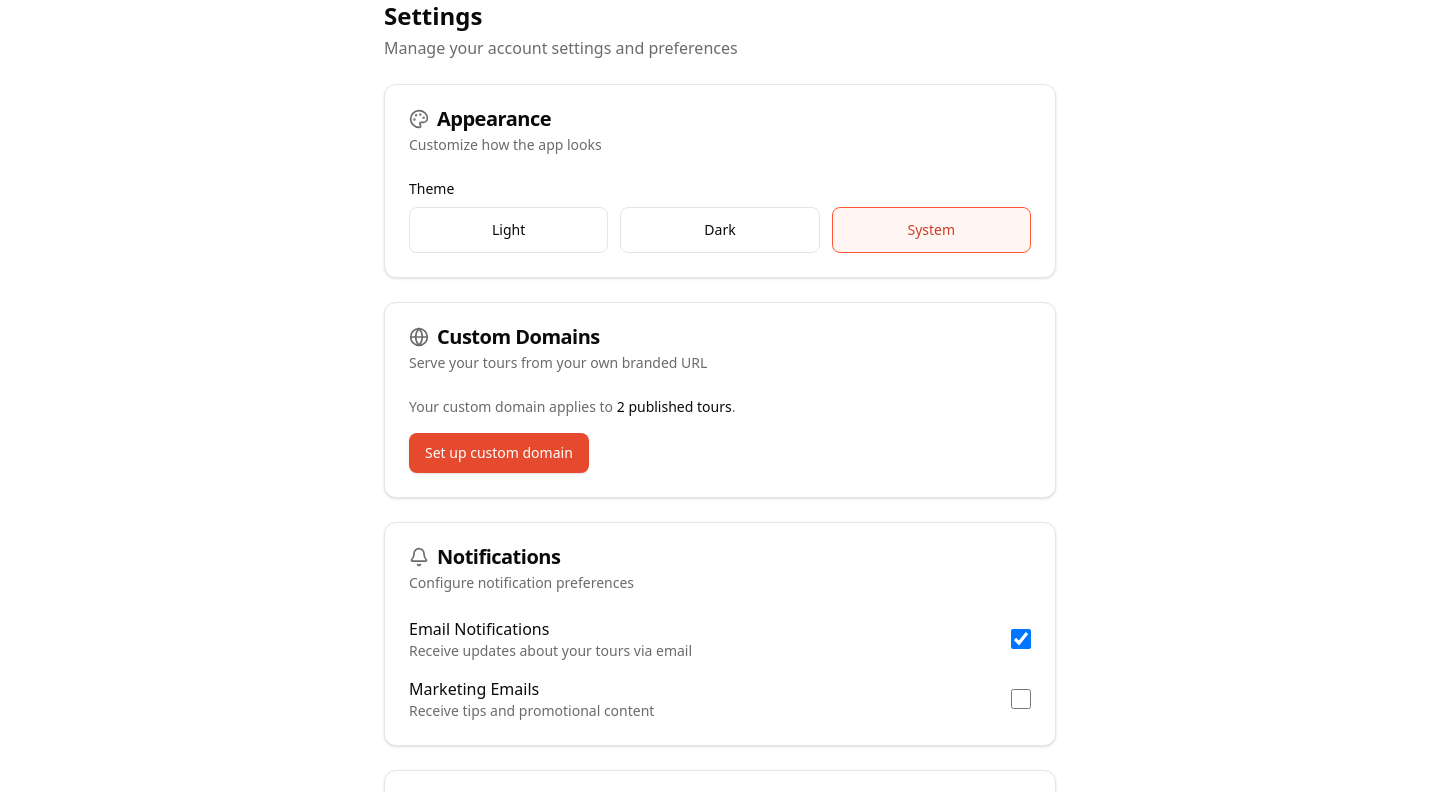
Scenario: SettingsPage › opens the CustomDomainSetup dialog from the section button
Check: the text "2 published tours" is shown, box [617,397,732,416]
Click the button "Set up custom domain" at (499,453), box [409,433,589,473]
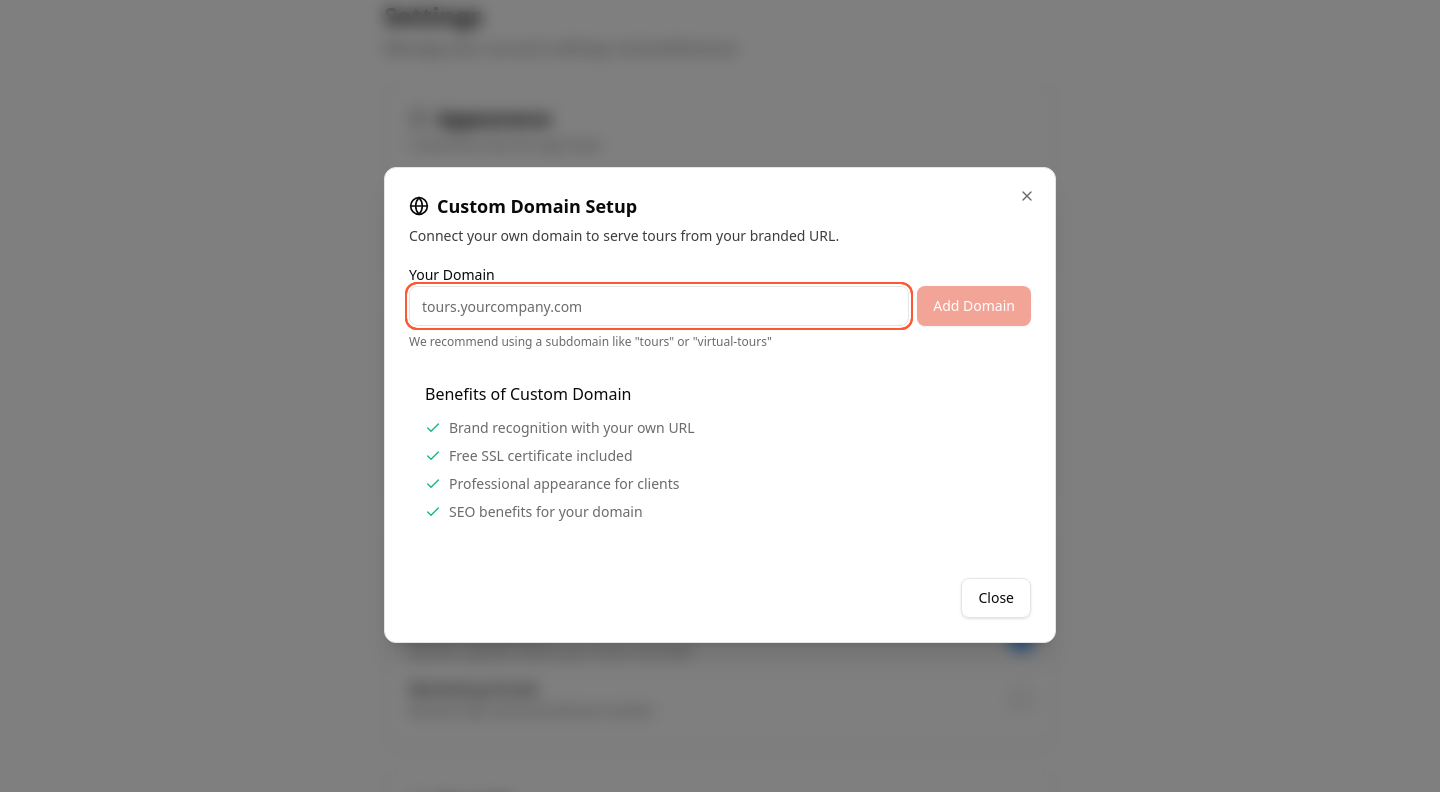
Check: the heading "Custom Domain Setup" is shown, box [409,194,637,218]
Check: the text "Connect your own domain to serve tours from your branded URL." is shown, box [409,226,839,245]
